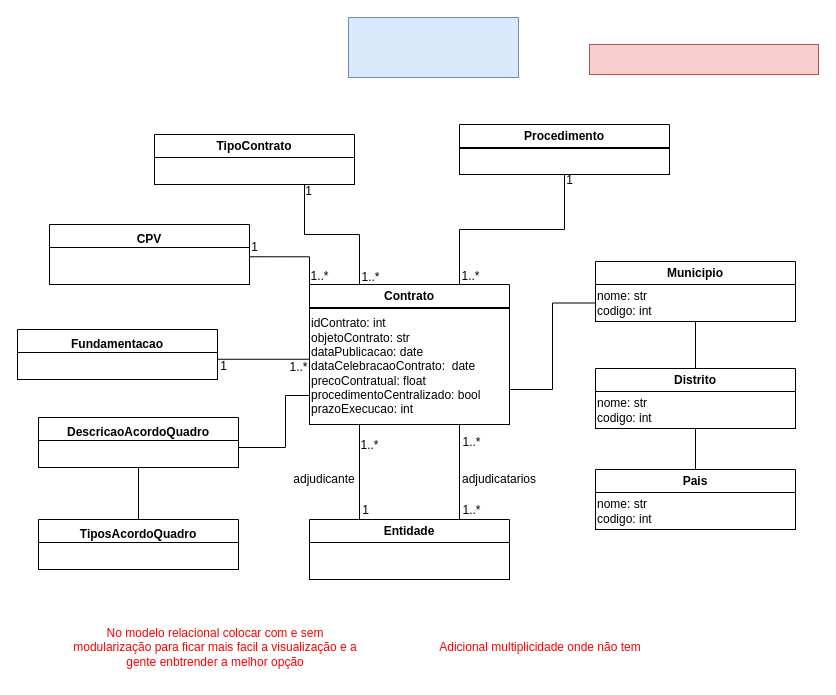
Some shapes in this 836 by 695 pixel diagram are drawn without their labels. The shapes that lost their labels are listed below. From the top down, each one's centre as x and y in pixels, then its label:
At point (433, 47): "Diagrama UML Contratos públicos".
At point (703, 59): "OBS: Acho que as multiplicidades estão erradas então relevem".
At point (254, 170): "tipoContrato: str".
At point (564, 161): "tipoProcedimento: str".
At point (149, 265): "codigoCPV: str descricao: str".
At point (117, 366): "fundamentacao: str".
At point (138, 556): "descricaoAcordoContrato: str".
At point (409, 561): "nif: int designacao: str".
